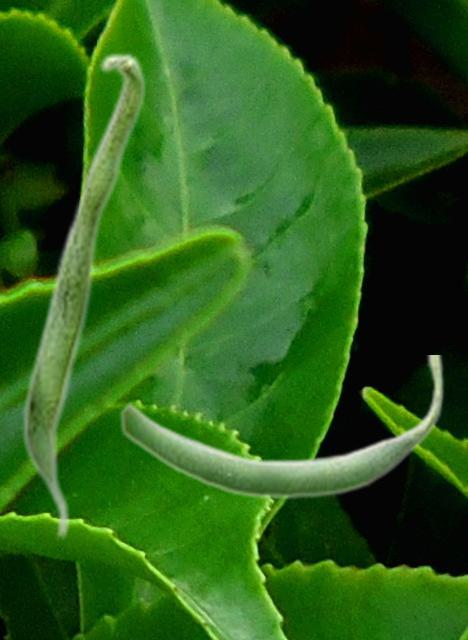french_bean: (21, 51, 146, 541), (119, 355, 444, 500)
